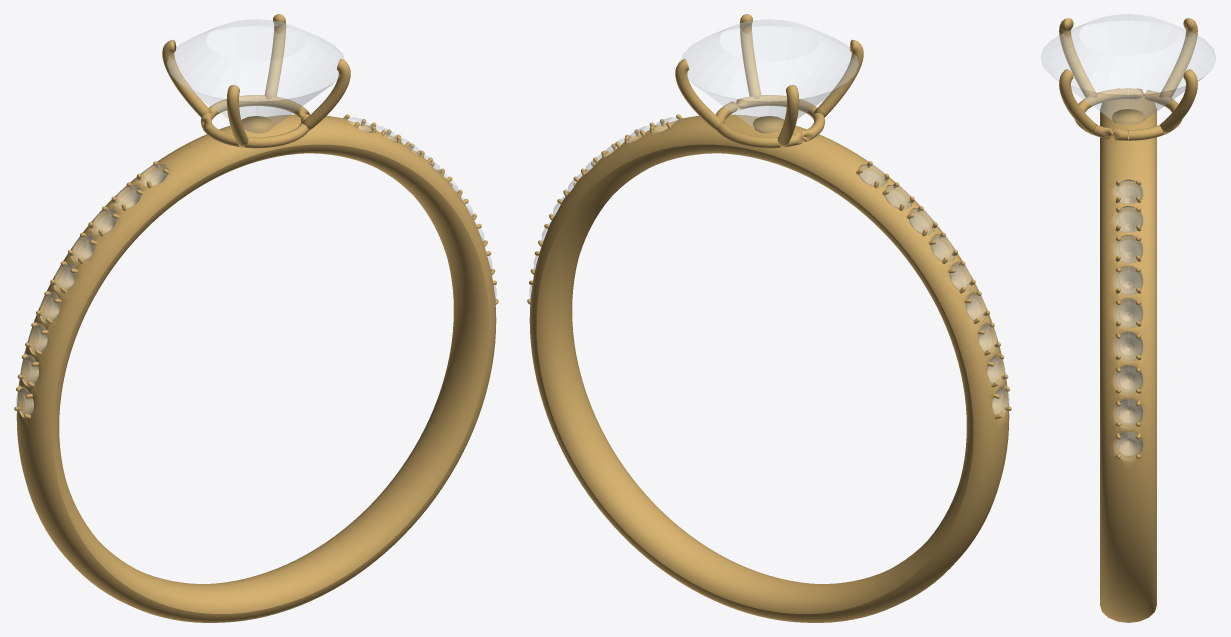
Rendered from accents-micro-pave.glb.
The picture shows the model from 3 angles, left to right: view 1: azimuth 30°, elevation 25°; view 2: azimuth 150°, elevation 25°; view 3: azimuth 270°, elevation 25°; orthographic projection.
Visible parts, largest first — view 1: Band, Gem, Lower gallery, Prong.001, Prong, Prong.003, Prong.002; view 2: Band, Gem, Lower gallery, Prong.002, Prong.003, Prong, Prong.001; view 3: Band, Gem, Lower gallery, Prong.001, Prong.002, Prong, Prong.003, Gem.016, Gem.015, Gem.014, Gem.017, Gem.013 (+5 smaller).
Part boxes in pixels (bbox=[...]): Band: bbox=[16, 114, 496, 622]; Gem: bbox=[167, 19, 344, 132]; Lower gallery: bbox=[200, 95, 309, 148]; Prong.001: bbox=[162, 39, 212, 117]; Prong: bbox=[264, 14, 286, 99]; Prong.003: bbox=[300, 59, 350, 131]; Prong.002: bbox=[226, 85, 248, 147]; Band: bbox=[529, 114, 1009, 622]; Gem: bbox=[681, 19, 858, 132]; Lower gallery: bbox=[715, 95, 825, 148]; Prong.002: bbox=[813, 39, 863, 117]; Prong.003: bbox=[739, 14, 761, 99]; Prong: bbox=[675, 59, 725, 131]; Prong.001: bbox=[777, 85, 799, 147]; Band: bbox=[1100, 96, 1156, 622]; Gem: bbox=[1040, 14, 1216, 124]; Lower gallery: bbox=[1075, 88, 1181, 140]; Prong.001: bbox=[1159, 18, 1197, 97]; Prong.002: bbox=[1059, 18, 1097, 97]; Prong: bbox=[1160, 69, 1197, 134]; Prong.003: bbox=[1059, 69, 1096, 134]; Gem.016: bbox=[1113, 365, 1143, 395]; Gem.015: bbox=[1113, 331, 1143, 362]; Gem.014: bbox=[1113, 298, 1143, 328]; Gem.017: bbox=[1113, 399, 1143, 428]; Gem.013: bbox=[1113, 266, 1143, 295].
Size of the model in its own units: 19.85 by 22.94 by 6.5.
